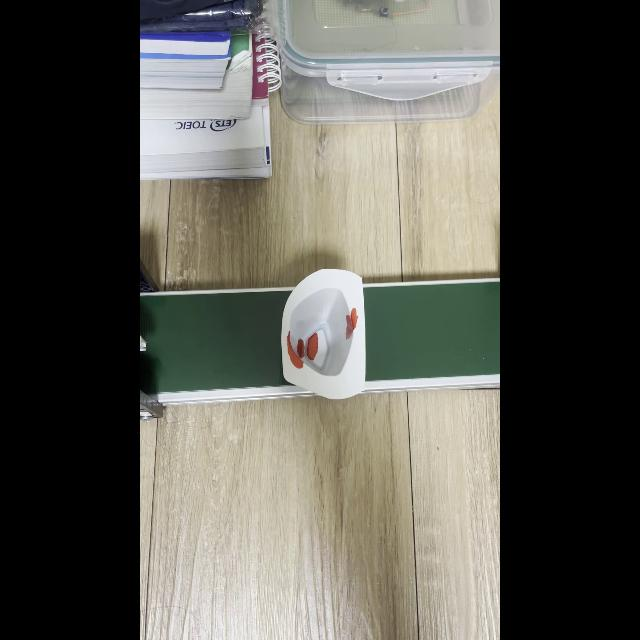dirty: (280, 286, 366, 388)
